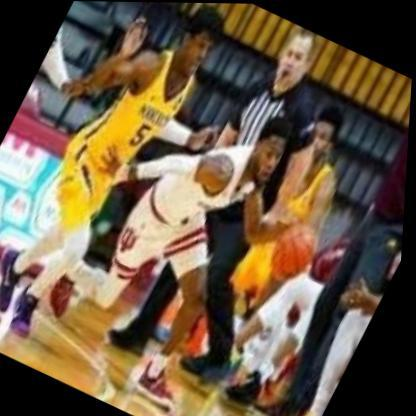basketball: (263, 212, 329, 291)
